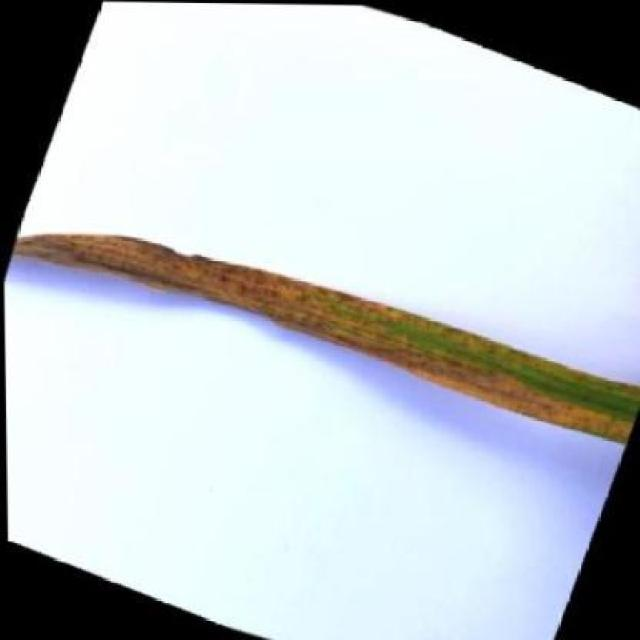Rice False Smut: (9, 153, 640, 489)
